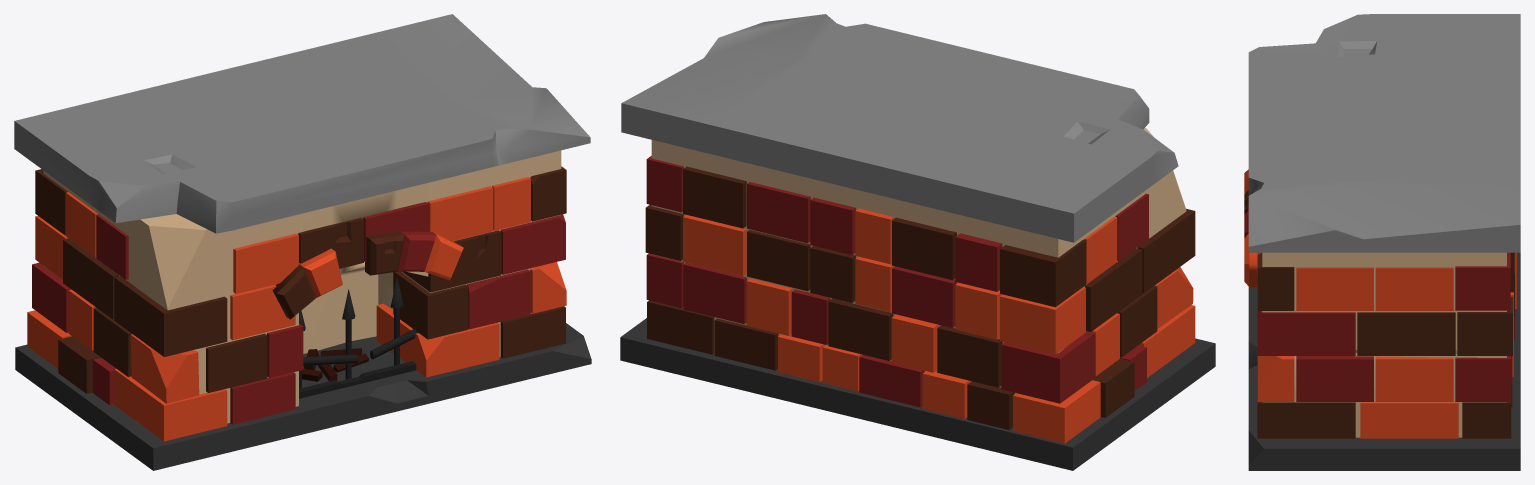
Rendered from OBJ_fireplace2.fbx.
The picture shows the model from 3 angles, left to right: view 1: azimuth 30°, elevation 25°; view 2: azimuth 150°, elevation 25°; view 3: azimuth 270°, elevation 25°; orthographic projection. The views are drawn at different scales.
Visible parts, largest first — view 1: Box009, Box008, Object002, Cone002, Box010, wBox010; view 2: Box009, Box008, Box010; view 3: Box009, Box008, Object002.
Boxes of the visible parts, left/top/right/bottom form: Box009: left=14, top=14, right=591, bottom=470; Box008: left=27, top=166, right=566, bottom=441; Object002: left=272, top=231, right=463, bottom=319; Cone002: left=299, top=277, right=417, bottom=398; Box010: left=130, top=334, right=199, bottom=403; wBox010: left=302, top=353, right=368, bottom=381; Box009: left=620, top=14, right=1215, bottom=470; Box008: left=645, top=156, right=1195, bottom=443; Box010: left=1154, top=267, right=1193, bottom=328; Box009: left=1248, top=14, right=1520, bottom=470; Box008: left=1257, top=252, right=1516, bottom=438; Object002: left=1244, top=169, right=1257, bottom=287.
Size of the model in its own units: 55.64 by 30.21 by 30.78.
